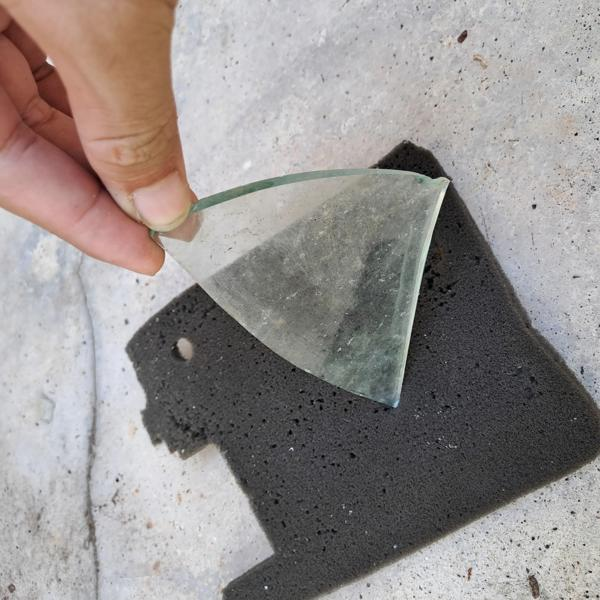Anorganik: (129, 154, 456, 414)
